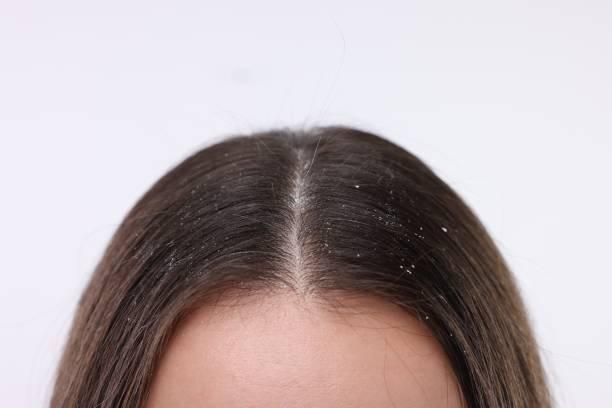dandruff: (122, 226, 228, 284), (331, 233, 425, 278), (179, 181, 242, 218), (419, 309, 475, 348), (280, 171, 321, 220), (362, 195, 407, 228), (436, 219, 449, 239), (348, 181, 365, 194)
